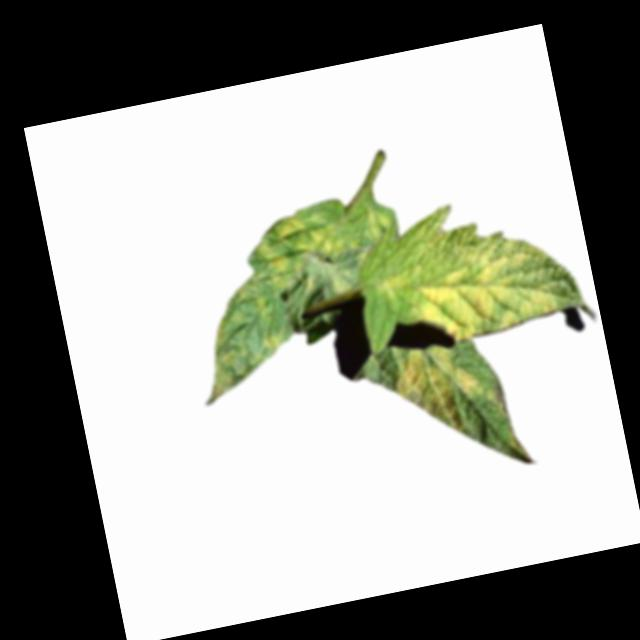Leaf_Mold: (408, 222, 566, 348), (389, 337, 487, 445), (298, 221, 361, 268), (372, 265, 416, 309), (257, 240, 291, 292), (273, 211, 308, 240), (262, 332, 288, 355)
